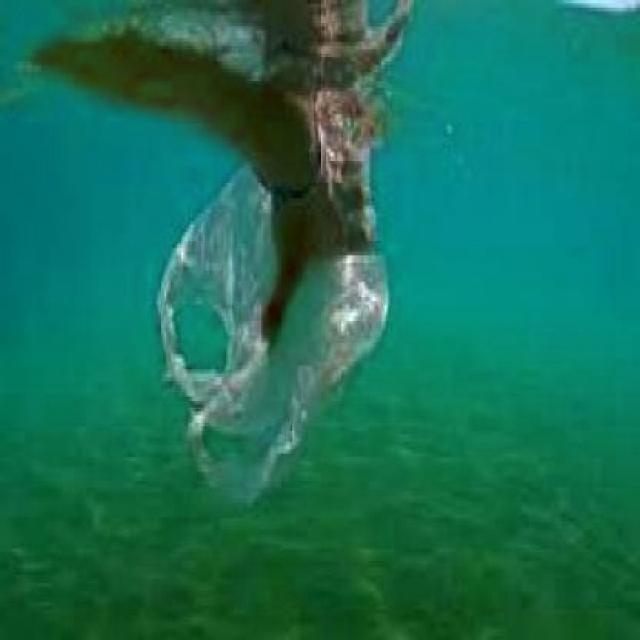pbag: (153, 122, 389, 510)
